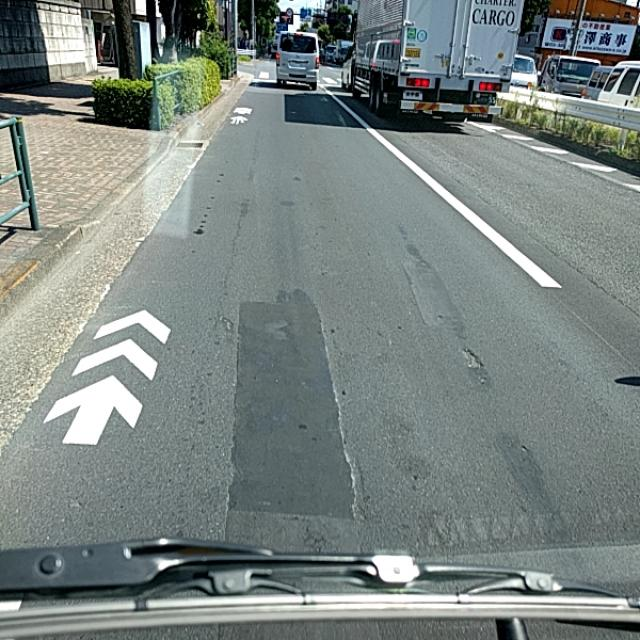pothole: (220, 316, 370, 458)
